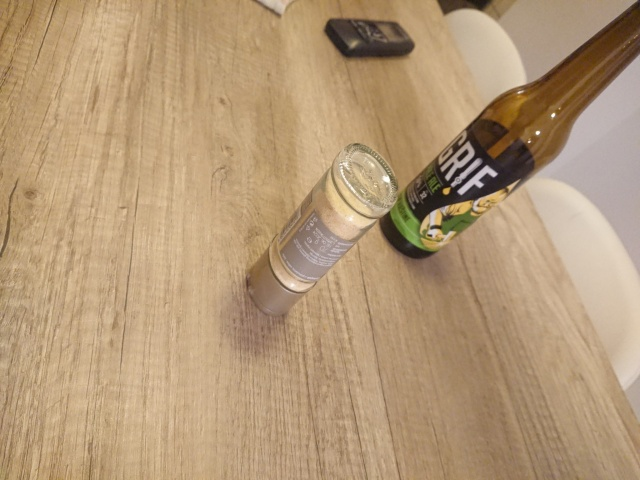Kotanyi Garlic Granules 70g: (242, 139, 402, 320)
